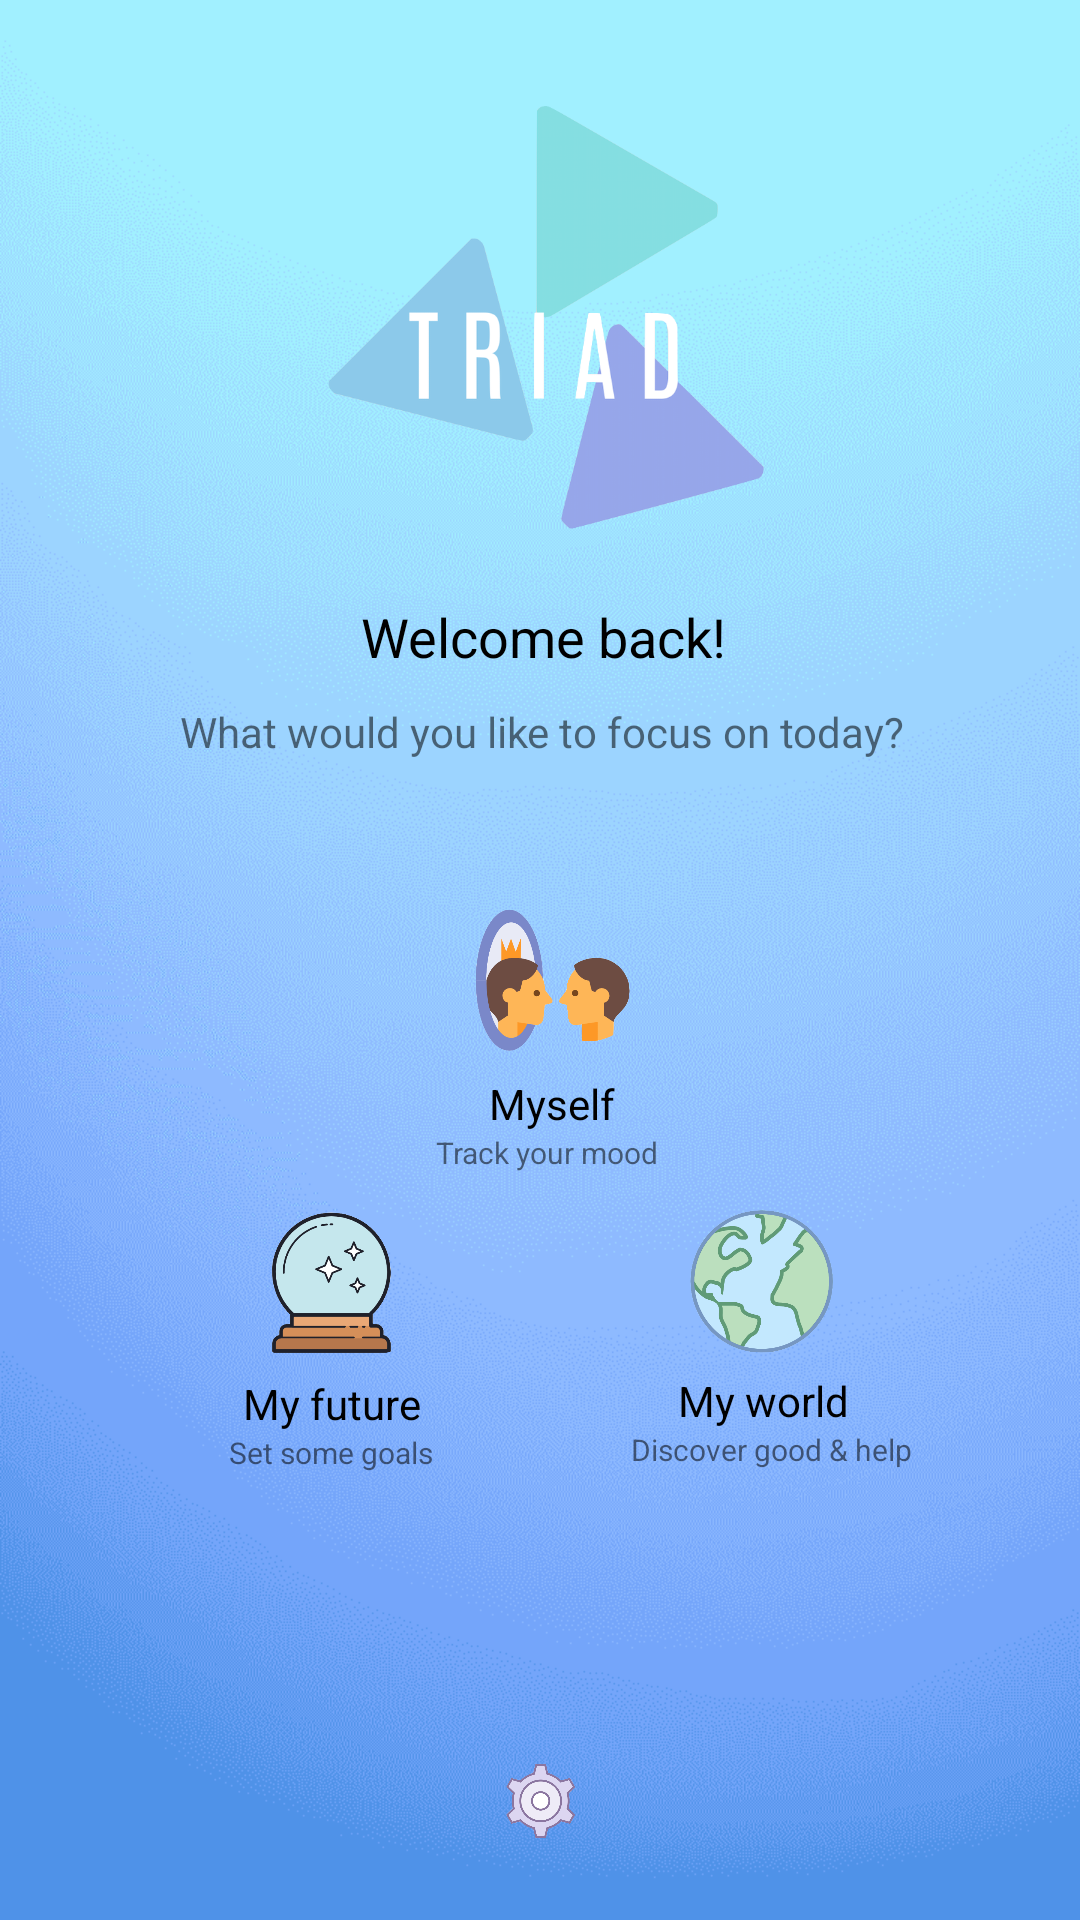

Icon click points for this 1080×1920 phone screenshot, format (x=x, y=y):
settings: (x=540, y=1796)
